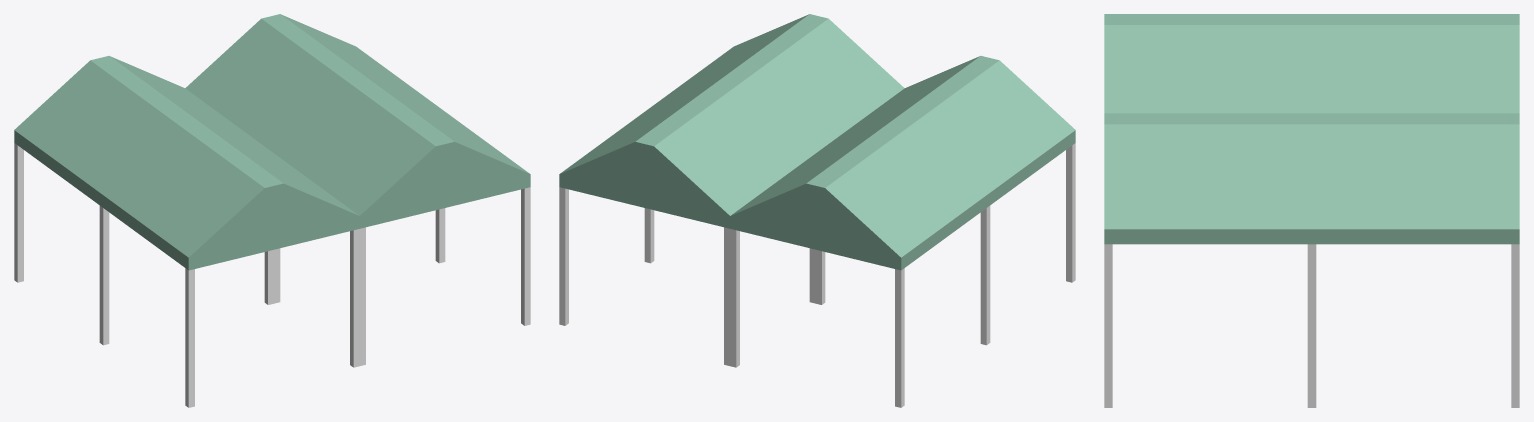
Rendered from tentRoofDouble.glb.
The picture shows the model from 3 angles, left to right: view 1: azimuth 30°, elevation 25°; view 2: azimuth 150°, elevation 25°; view 3: azimuth 270°, elevation 25°; orthographic projection. The views are drawn at different scales.
Parts seen in each view (by area): view 1: tentRoofDouble; view 2: tentRoofDouble; view 3: tentRoofDouble.
Part boxes in pixels (box(x1,y1,x2,y2)): tentRoofDouble: box(14, 14, 530, 407); tentRoofDouble: box(559, 14, 1075, 407); tentRoofDouble: box(1104, 14, 1519, 407).
Size of the model in its own units: 5.6 by 3.15 by 4.95.
